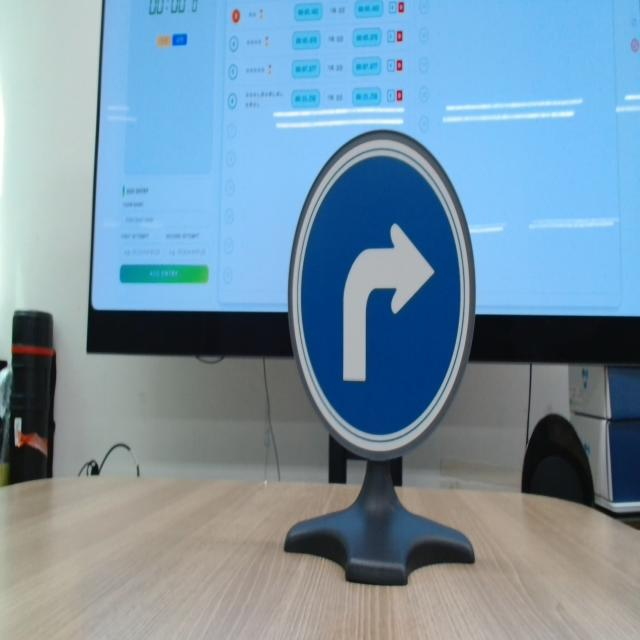right_dierection: (280, 117, 496, 498)
